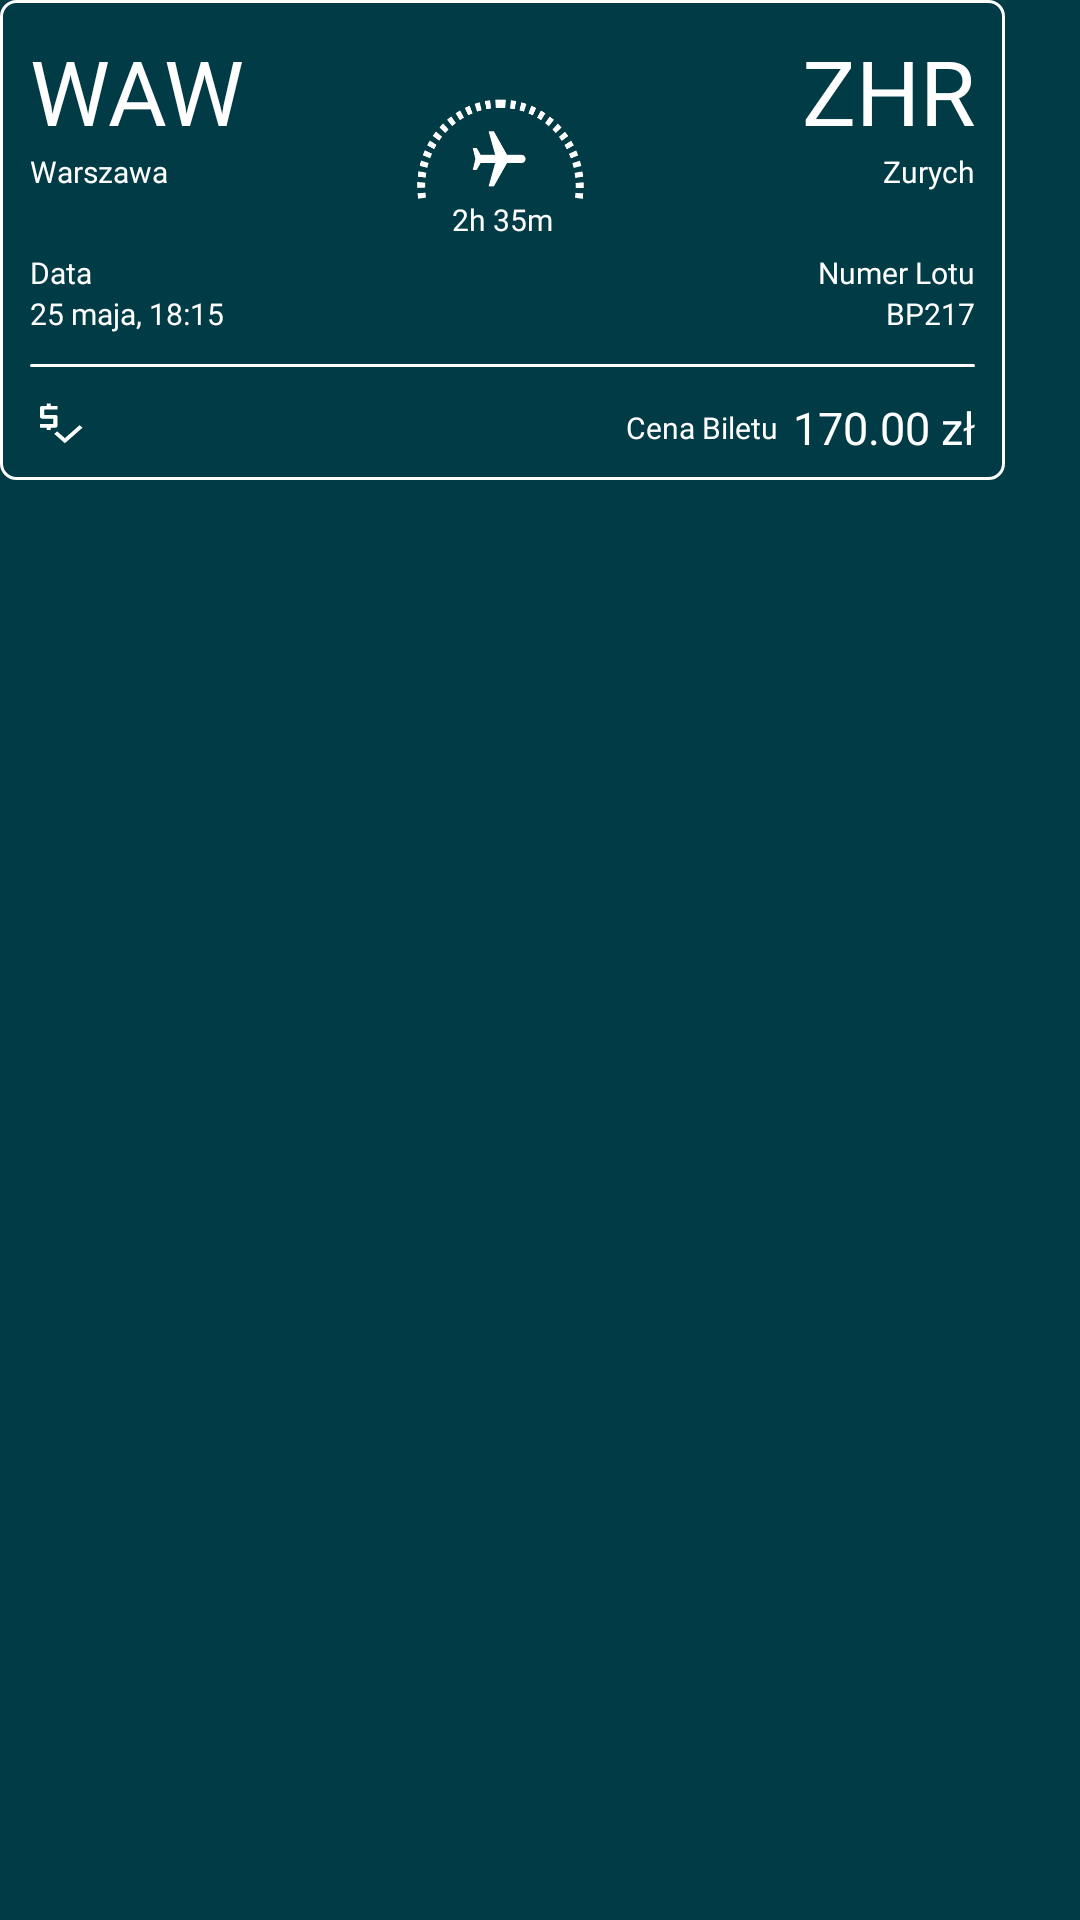

Screen size 1080 × 1920. Icon name, then its box in pixels as (x1,y1,x2,y2):
journey time: (417,99,584,199)
ticket price: (40,403,83,443)
